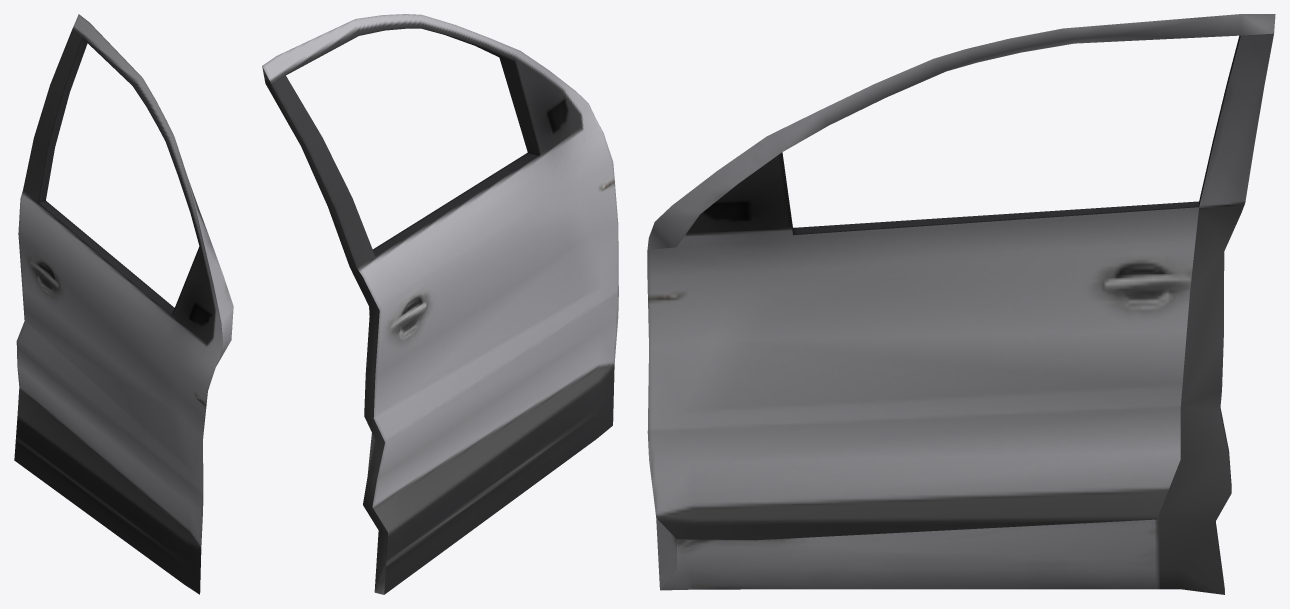
3 renders of one model, left to right at view 1: azimuth 30°, elevation 25°; view 2: azimuth 150°, elevation 25°; view 3: azimuth 270°, elevation 25°, orthographic. The views are drawn at different scales.
Parts seen in each view (by area): view 1: 对象004; view 2: 对象004; view 3: 对象004.
Boxes of the visible parts, left/top/right/bottom form: 对象004: left=14, top=14, right=233, bottom=594; 对象004: left=262, top=14, right=618, bottom=594; 对象004: left=647, top=14, right=1275, bottom=594.
Bounding box in the file's own units: 119 × 583 × 522.
